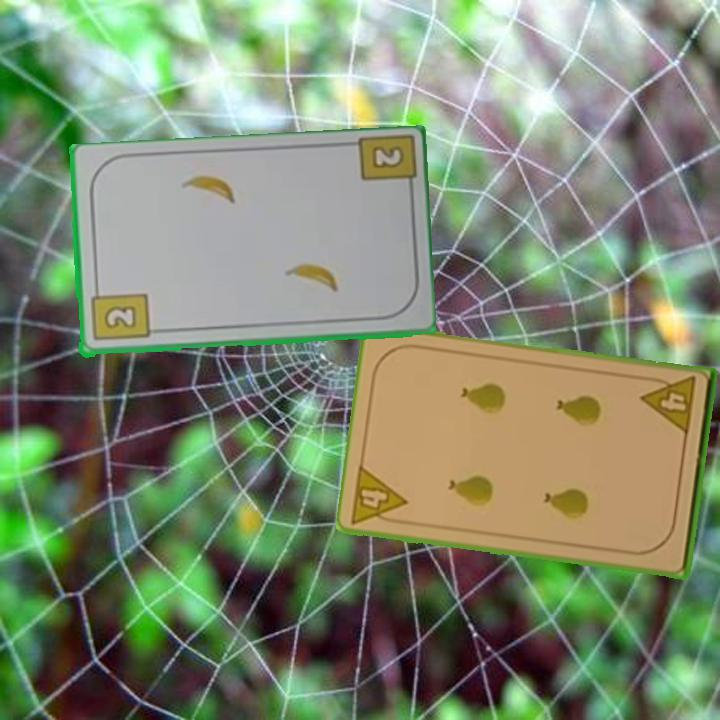2b: (88, 283, 151, 344), (367, 143, 407, 172)
4p: (348, 461, 410, 528), (639, 373, 698, 438)
